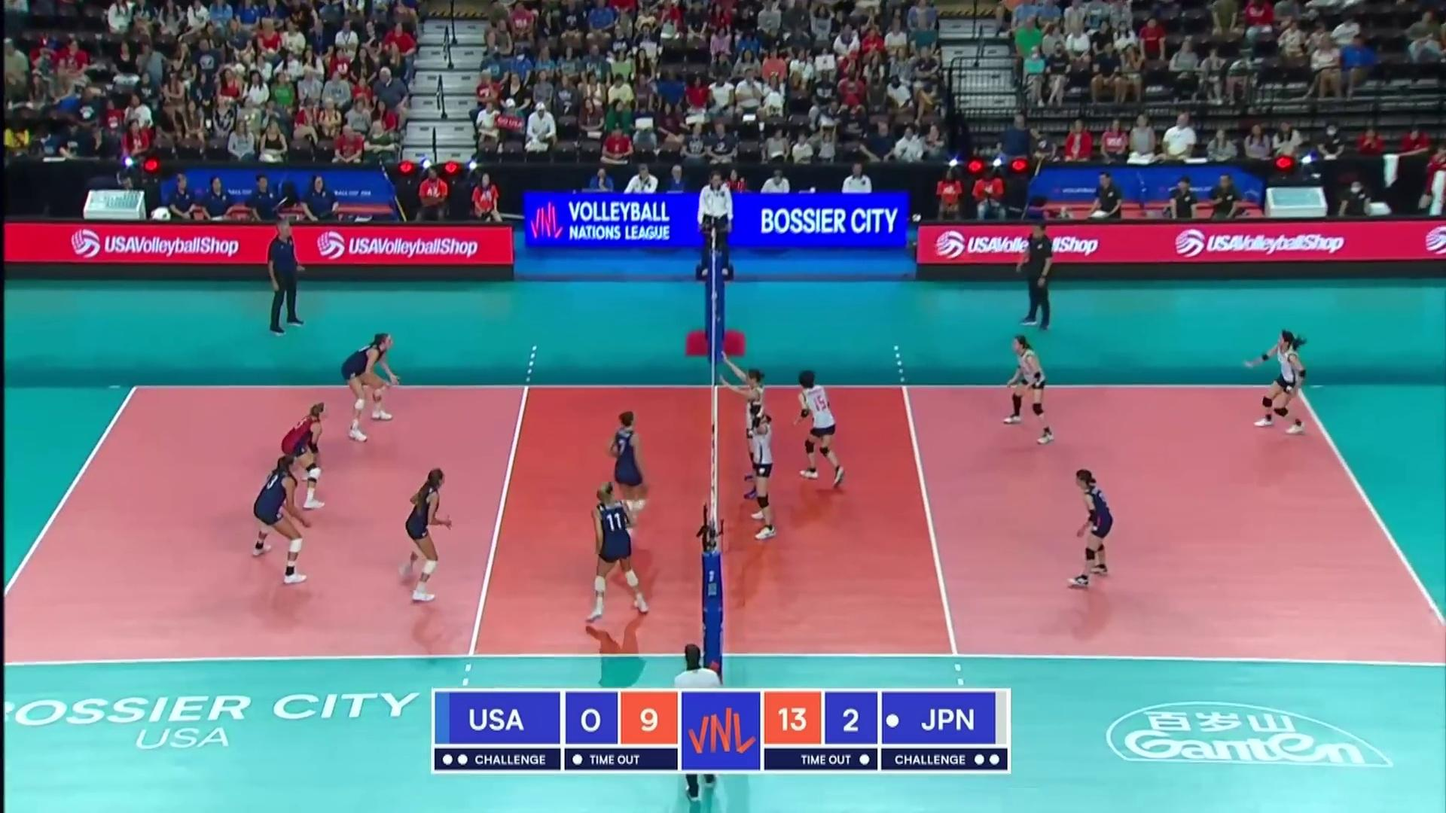player: (253, 436, 326, 585), (592, 473, 656, 632), (262, 403, 345, 517), (393, 464, 458, 604), (592, 410, 654, 537), (725, 362, 780, 500), (344, 334, 406, 449), (1248, 333, 1314, 435), (740, 399, 784, 542), (790, 370, 844, 486), (1069, 472, 1120, 588), (1004, 341, 1057, 448)
refree: (672, 640, 722, 803), (694, 168, 736, 280)
